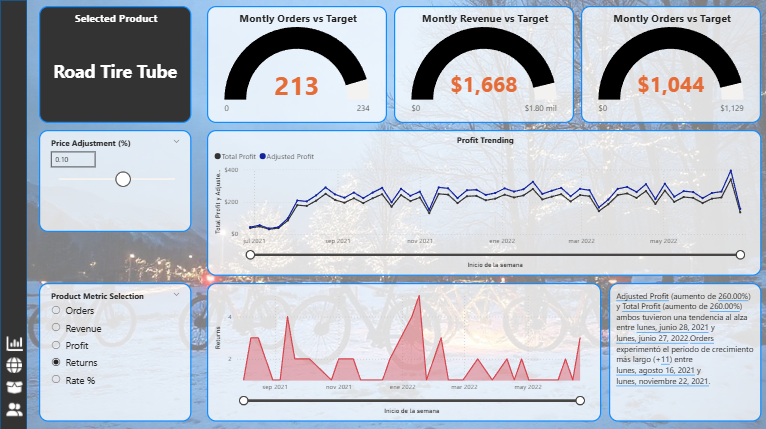

Layout of this report page (visuals, bound fields, positions):
{"tool":"powerbi","page":{"name":"Product Detail","canvas":[1280,720],"ordinal":2},"visuals":[{"type":"shape","box":[0,0,45,720],"z":0},{"type":"actionButton","box":[7.1,555.7,35.7,35.7],"z":0,"group":"g1"},{"type":"gauge","title":"Montly Orders vs Target","fields":{"Y":["Measure Table.Total Orders"],"MaxValue":["Measure Table.Order Target"]},"box":[345,10,300,195],"z":1000},{"type":"actionButton","box":[7.1,592.8,35.7,34.3],"z":1000,"group":"g1"},{"type":"gauge","title":"Montly Revenue vs Target","fields":{"Y":["Measure Table.Total Revenue"],"MaxValue":["Measure Table.Revenue Target"]},"box":[656.7,10,300,195],"z":2000},{"type":"actionButton","box":[7,629,35,35],"z":2000,"group":"g1"},{"type":"gauge","title":"Montly Orders vs Target","fields":{"Y":["Measure Table.Total Profit"],"MaxValue":["Measure Table.Profit Target"]},"box":[968.3,10,300,195],"z":3000},{"type":"actionButton","box":[7,665.7,35,35],"z":3000,"group":"g1"},{"type":"lineChart","title":"Profit Trending","fields":{"Category":["Calendar Lookup.Año Jerarquía.Año","Calendar Lookup.Año Jerarquía.Inicio del mes","Calendar Lookup.Año Jerarquía.Inicio de la semana","Calendar Lookup.Año Jerarquía.Date"],"Y":["Measure Table.Total Profit","Measure Table.Adjusted Profit"]},"box":[345,216.2,923.8,242.5],"z":4000},{"type":"areaChart","title":"Returns Trending","fields":{"Y":["Measure Table.Total Orders"],"Category":["Calendar Lookup.Año Jerarquía.Año","Calendar Lookup.Año Jerarquía.Inicio del mes","Calendar Lookup.Año Jerarquía.Inicio de la semana","Calendar Lookup.Año Jerarquía.Date"]},"box":[345.3,471.7,656.8,230.7],"z":5000},{"type":"card","title":"Selected Product","fields":{"Values":["Min(Product Lookup.ProductName)"]},"box":[65,10,253.8,195],"z":6000},{"type":"group","id":"g1","title":"Navigation Buttons","box":[7,555.7,35.9,145],"z":7000},{"type":"slicer","fields":{"Values":["Price Adjustment (%).Price Adjustment (%)"]},"box":[64.7,216,254.2,170.4],"z":8000},{"type":"slicer","fields":{"Values":["Parámetro.Parámetro"]},"box":[64.7,471.7,254.2,230.7],"z":9000},{"type":"textbox","box":[1015.3,471.7,254.2,230.7],"z":10000}]}

Visuals, with their boxes in screenshot pixels (x1, y1, x2, y2), scaled from the page's 1280x720 canvas onto the 766x429 screenshot:
shape: 0:0:27:428
actionButton: 4:331:26:352
"Montly Orders vs Target" gauge: 206:6:386:122
actionButton: 4:353:26:374
"Montly Revenue vs Target" gauge: 393:6:573:122
actionButton: 4:375:25:396
"Montly Orders vs Target" gauge: 579:6:759:122
actionButton: 4:397:25:418
"Profit Trending" lineChart: 206:129:759:273
"Returns Trending" areaChart: 207:281:600:419
"Selected Product" card: 39:6:191:122
"Navigation Buttons" group: 4:331:26:418
slicer - Price Adjustment (%).Price Adjustment (%): 39:129:191:230
slicer - Parámetro.Parámetro: 39:281:191:419
textbox: 608:281:760:419
